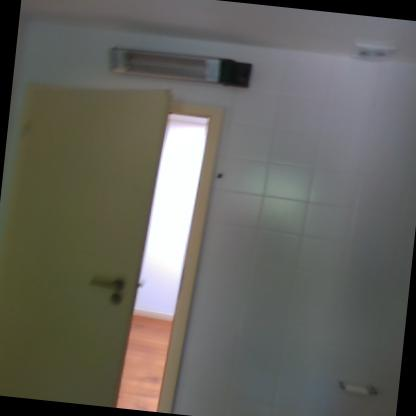semi: (0, 63, 231, 416)
